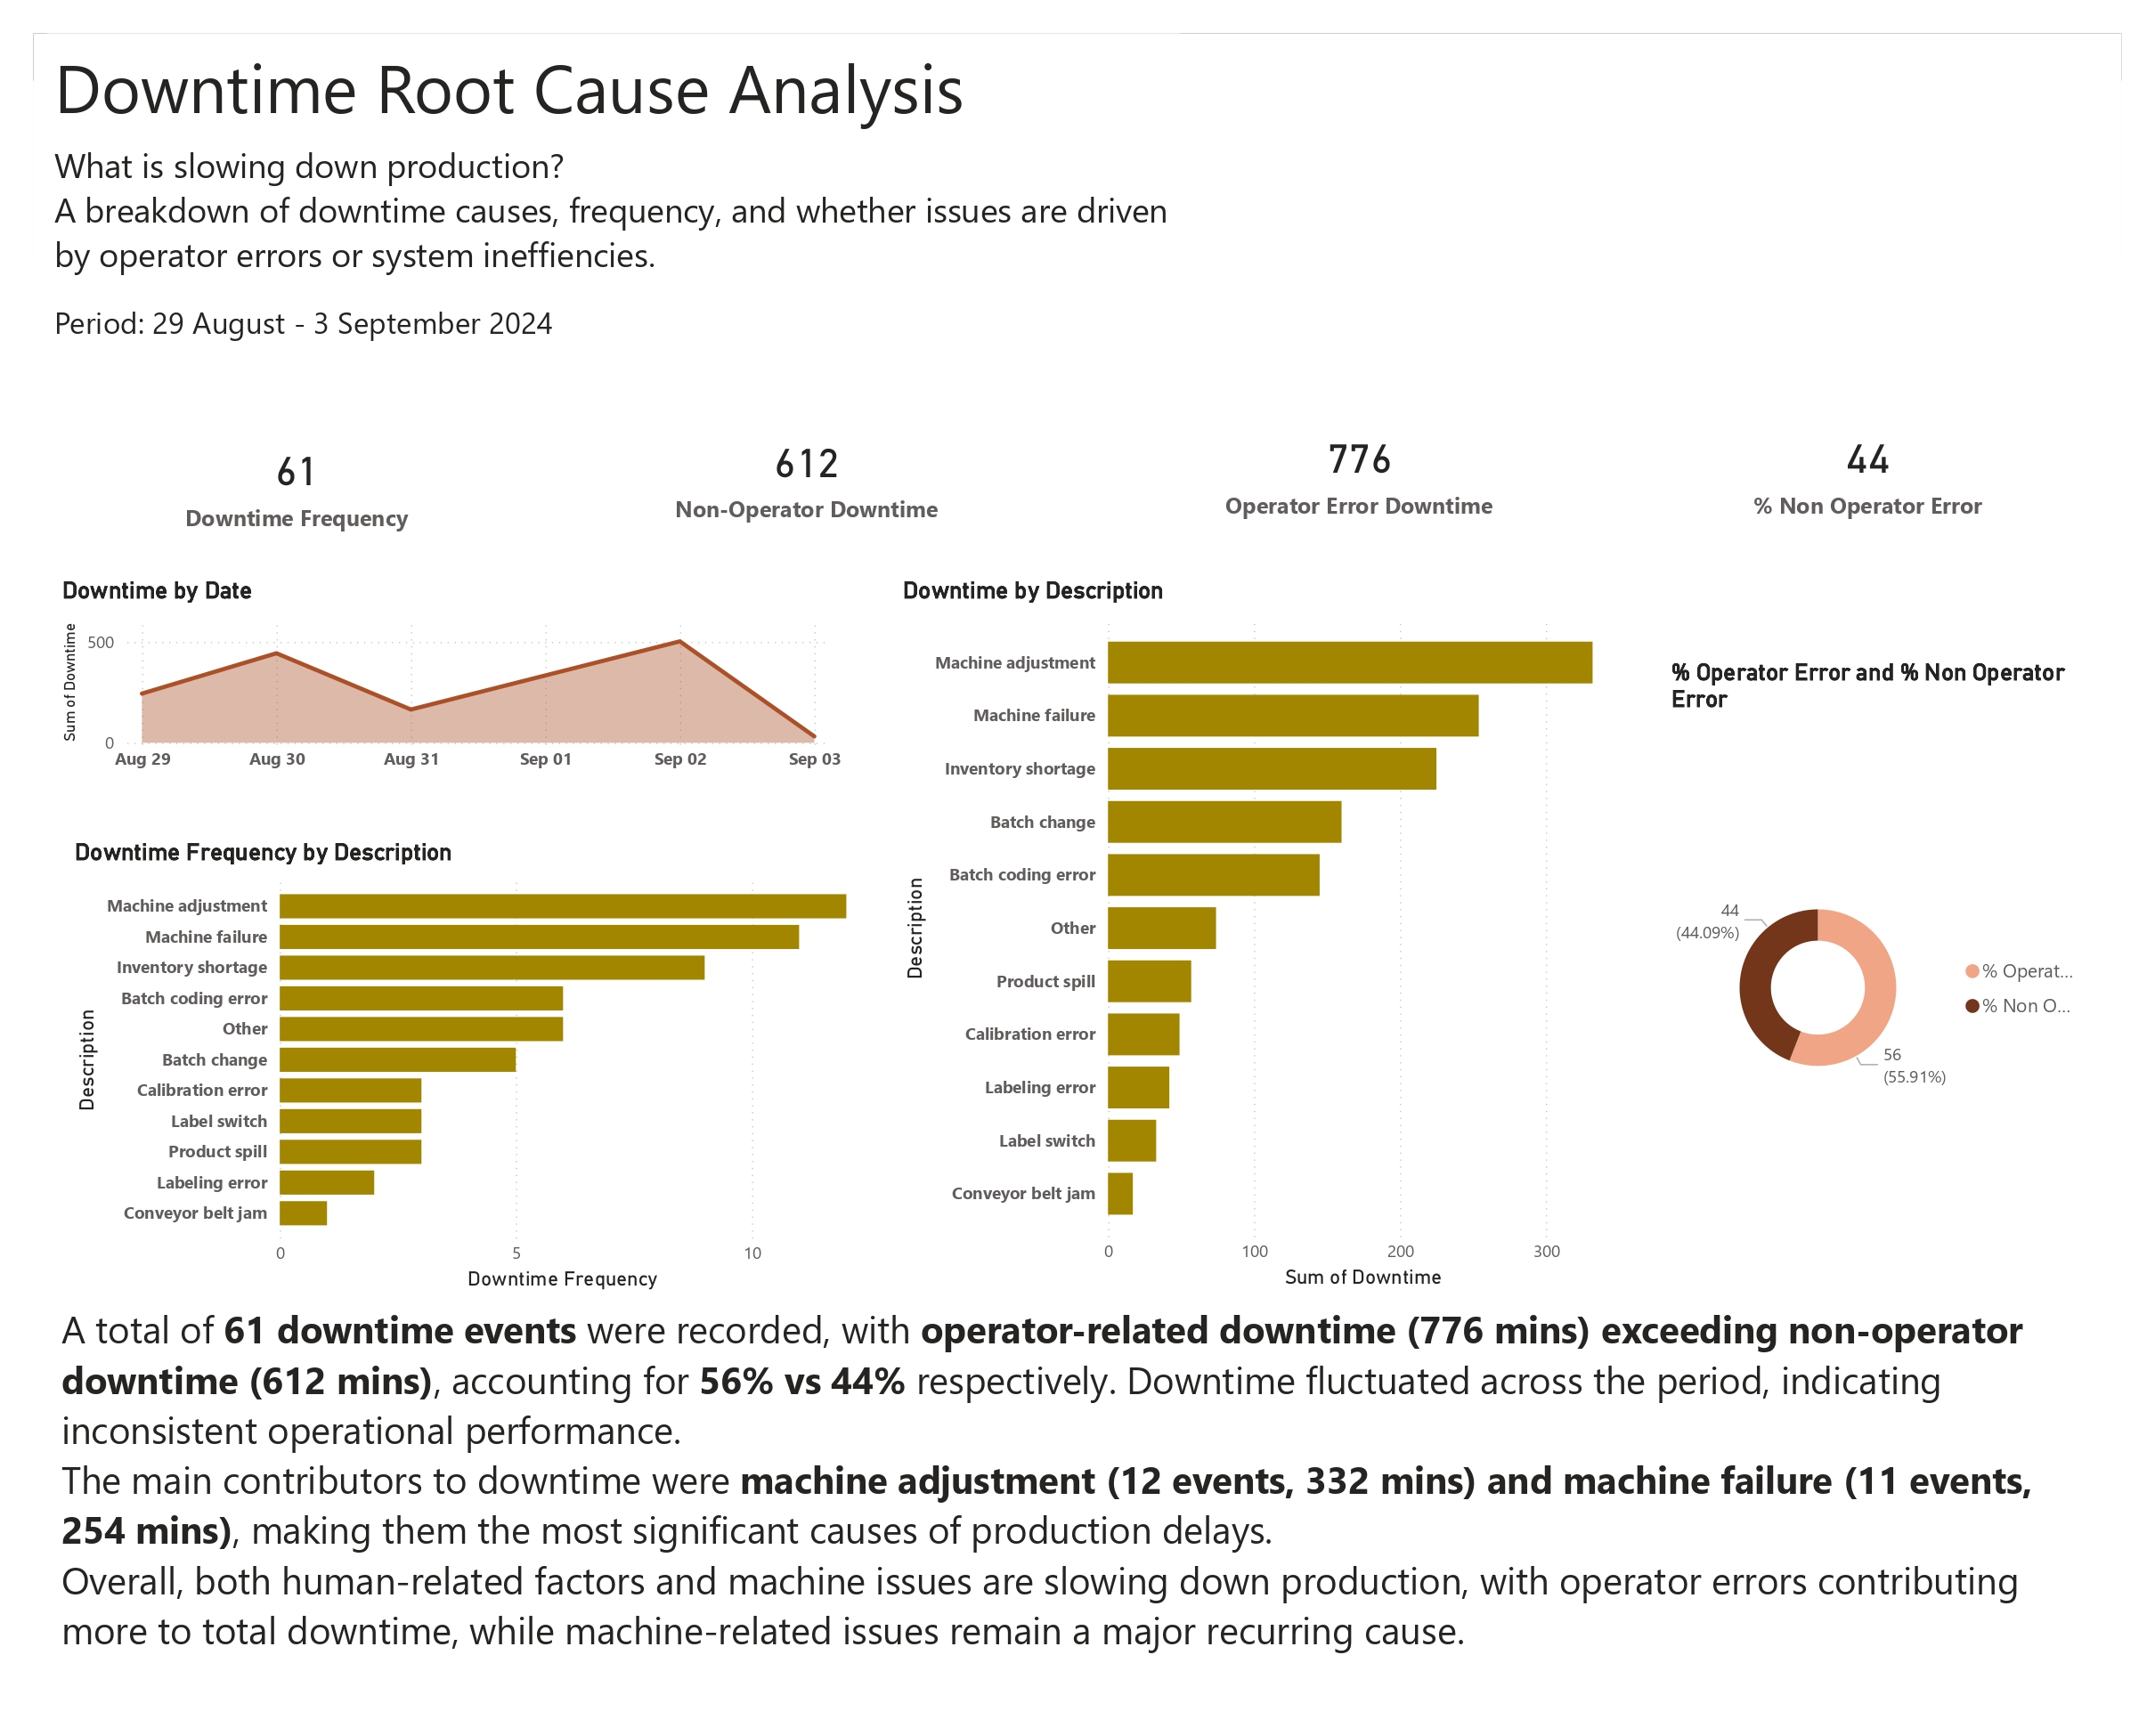

The dashboard page shown, as its layout file describes it:
{"tool":"powerbi","page":{"name":"What is Slowing Down Production","canvas":[1500,1200],"ordinal":1},"visuals":[{"type":"textbox","box":[10.2,0,813.7,144.9],"z":0},{"type":"textbox","box":[9.8,73.2,814.6,114.6],"z":1000},{"type":"textbox","box":[9.8,187.8,814.6,75.6],"z":2000},{"type":"card","fields":{"Values":["Downtime factors.Downtime Frequency"]},"box":[15.2,256.2,347.6,134.5],"z":3000},{"type":"card","fields":{"Values":["Downtime factors.Non-Operator Downtime"]},"box":[362.8,243.6,385.6,147.1],"z":4000},{"type":"card","fields":{"Values":["Downtime factors.Operator Error Downtime"]},"box":[751,238.5,403.4,152.2],"z":5000},{"type":"card","fields":{"Values":["Downtime factors.Operator Error %"]},"box":[1154.3,238.5,327.3,152.2],"z":6000},{"type":"clusteredBarChart","fields":{"Y":["Downtime factors.Downtime Frequency"],"Category":["Downtime factors.Description"]},"box":[25.4,578.4,570.8,329.8],"z":7000},{"type":"clusteredBarChart","title":"Downtime by Description","fields":{"Category":["Downtime factors.Description"],"Y":["Sum(Line downtime.Downtime)"]},"box":[619.5,390.2,534.1,517.1],"z":8000},{"type":"areaChart","title":"Downtime by Date","fields":{"Category":["Line productivity.Date.Variation.Date Hierarchy.Year","Line productivity.Date.Variation.Date Hierarchy.Quarter","Line productivity.Date.Variation.Date Hierarchy.Month","Line productivity.Date.Variation.Date Hierarchy.Day"],"Y":["Sum(Line downtime.Downtime)"]},"box":[16.5,389.6,568.9,150],"z":9000},{"type":"donutChart","fields":{"Y":["Downtime factors.% Operator Error1","Downtime factors.% Operator Error"]},"box":[1172.1,449,309.5,436.4],"z":10000},{"type":"textbox","box":[15.2,908.2,1466.4,291.8],"z":11000}]}

Visuals, with their boxes on the page's 1500x1200 design canvas (x1, y1, x2, y2). These are canvas units, not pixel positions in the 2155x1736 screenshot, which may show the page scaled, cropped or inside an application window:
textbox: 10/0/824/145
textbox: 10/73/824/188
textbox: 10/188/824/263
card - Downtime factors.Downtime Frequency: 15/256/363/391
card - Downtime factors.Non-Operator Downtime: 363/244/748/391
card - Downtime factors.Operator Error Downtime: 751/238/1154/391
card - Downtime factors.Operator Error %: 1154/238/1482/391
clusteredBarChart - Downtime factors.Downtime Frequency x Downtime factors.Description: 25/578/596/908
"Downtime by Description" clusteredBarChart: 620/390/1154/907
"Downtime by Date" areaChart: 16/390/585/540
donutChart - Downtime factors.% Operator Error1 x Downtime factors.% Operator Error: 1172/449/1482/885
textbox: 15/908/1482/1200
